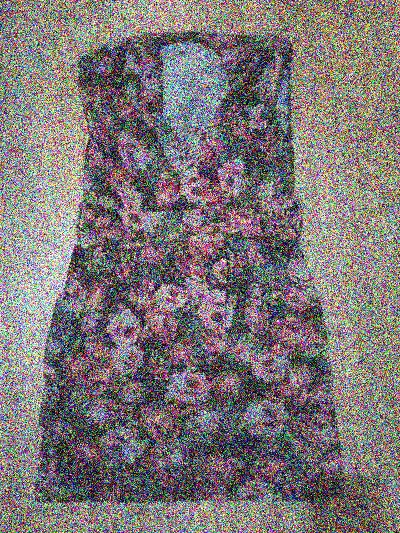Dress: (40, 21, 358, 503)
